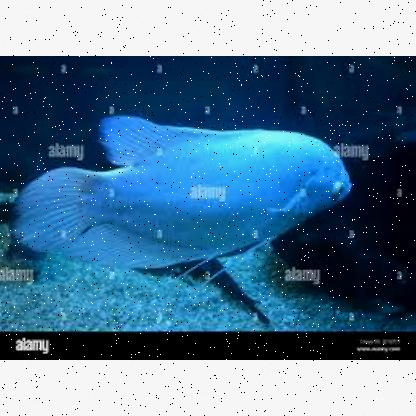gurame: (13, 117, 361, 273)
